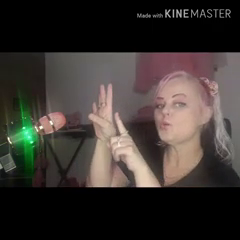Y: (83, 80, 142, 174)
